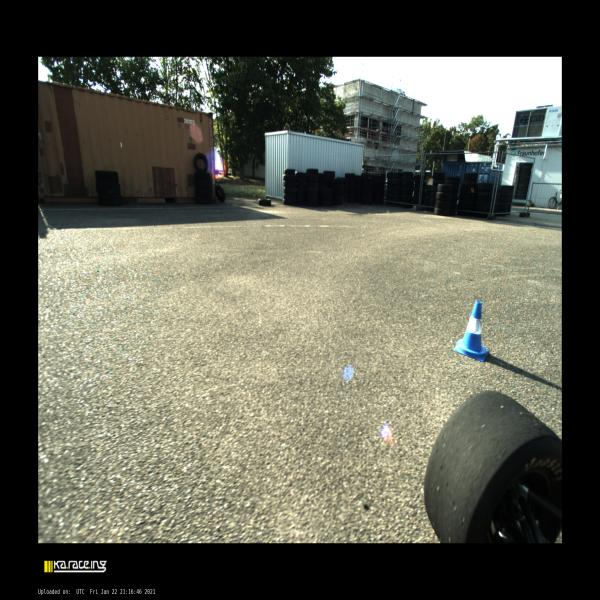blue_cone: (453, 300, 488, 361)
